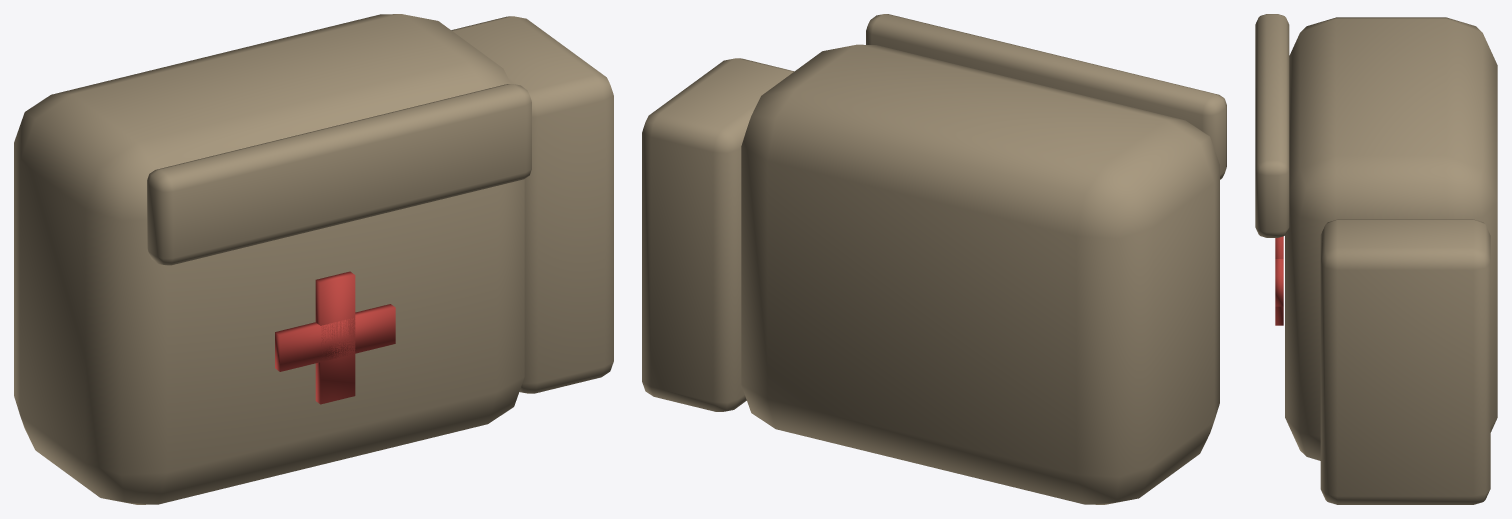
The model's file is IFAK_Pouch.fbx.
3 views of the same model, side by side, from view 1: azimuth 30°, elevation 25°; view 2: azimuth 150°, elevation 25°; view 3: azimuth 270°, elevation 25° (orthographic). The views are drawn at different scales.
Visible parts, largest first — view 1: IFAK_Pouch, IFAK_Cross; view 2: IFAK_Pouch; view 3: IFAK_Pouch, IFAK_Cross.
Boxes of the visible parts, <box> form: IFAK_Pouch: <box>14,14,613,504</box>; IFAK_Cross: <box>275,271,395,404</box>; IFAK_Pouch: <box>642,14,1226,504</box>; IFAK_Pouch: <box>1255,14,1497,504</box>; IFAK_Cross: <box>1275,236,1283,325</box>.
Size of the model in its own units: 0.1825 by 0.12 by 0.0855.
